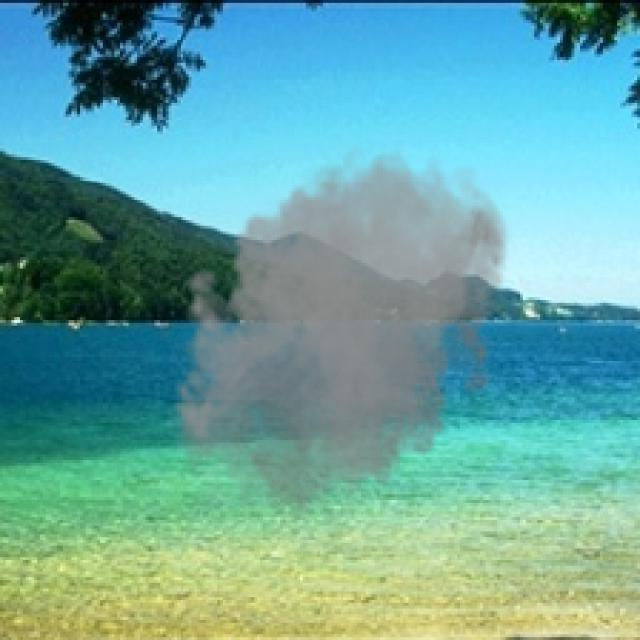Smoke: (162, 140, 514, 537)
